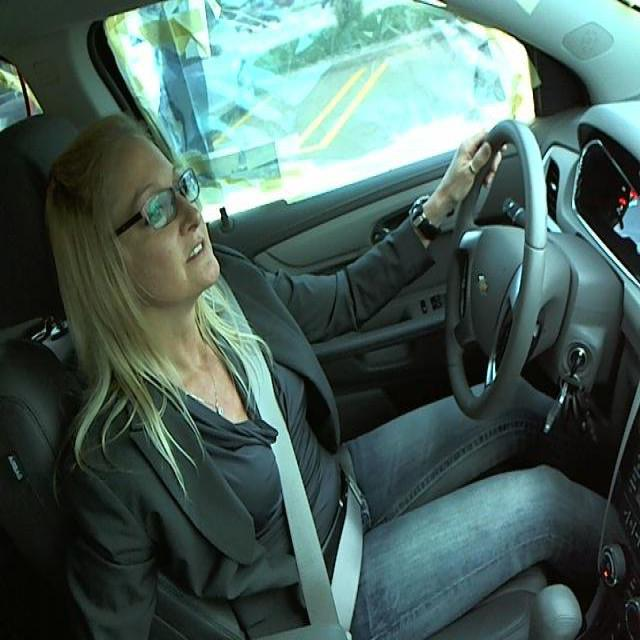seatbelt: (213, 314, 365, 614)
